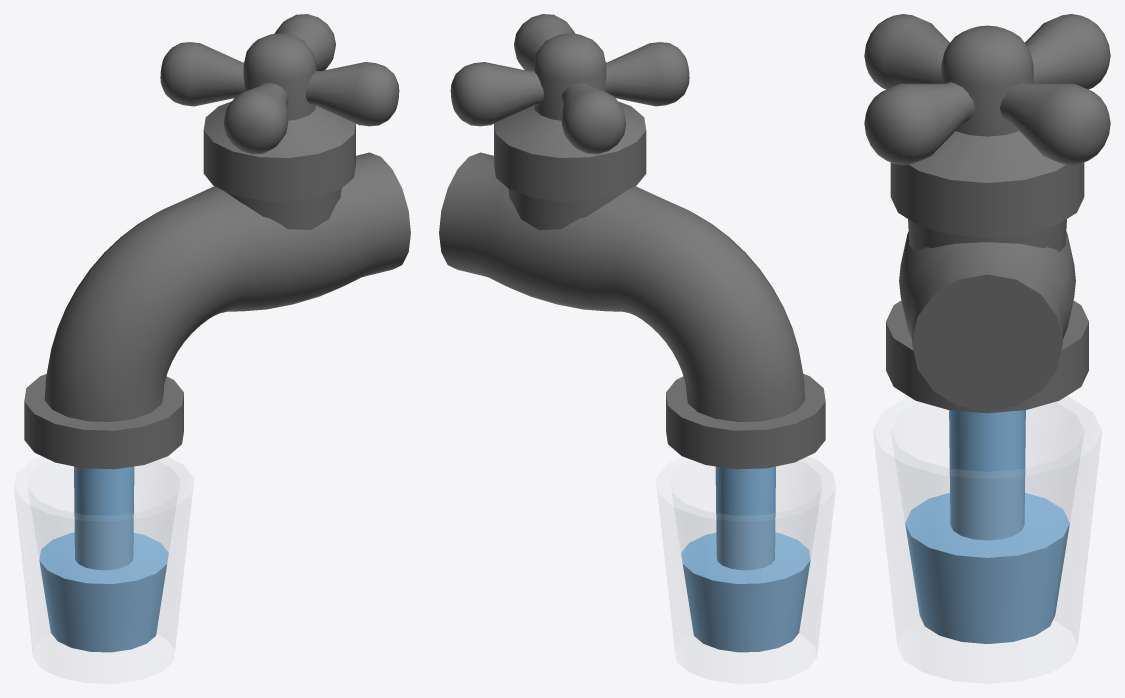
The model's file is potable_water.gltf.
3 renders of one model, left to right at view 1: azimuth 30°, elevation 25°; view 2: azimuth 150°, elevation 25°; view 3: azimuth 270°, elevation 25°, orthographic. The views are drawn at different scales.
Parts seen in each view (by area): view 1: Torus.003; view 2: Torus.003; view 3: Torus.003.
Part boxes in pixels (left/top/right/bottom): Torus.003: left=14, top=14, right=410, bottom=683; Torus.003: left=439, top=14, right=835, bottom=683; Torus.003: left=864, top=14, right=1110, bottom=683.
Size of the model in its own units: 1.45 by 2.22 by 0.6878.
Materials: 2 (1 with a texture image).
